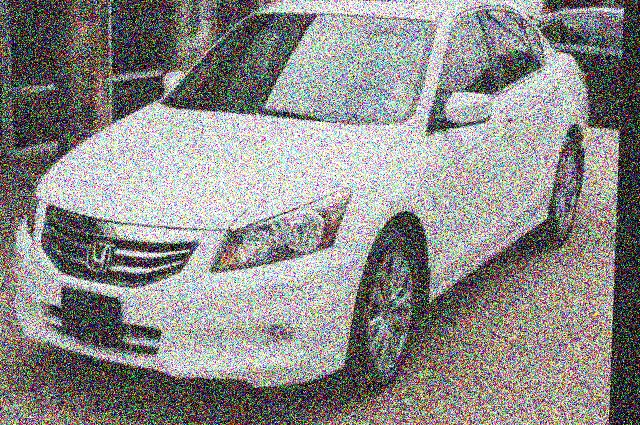car: (0, 0, 605, 425)
